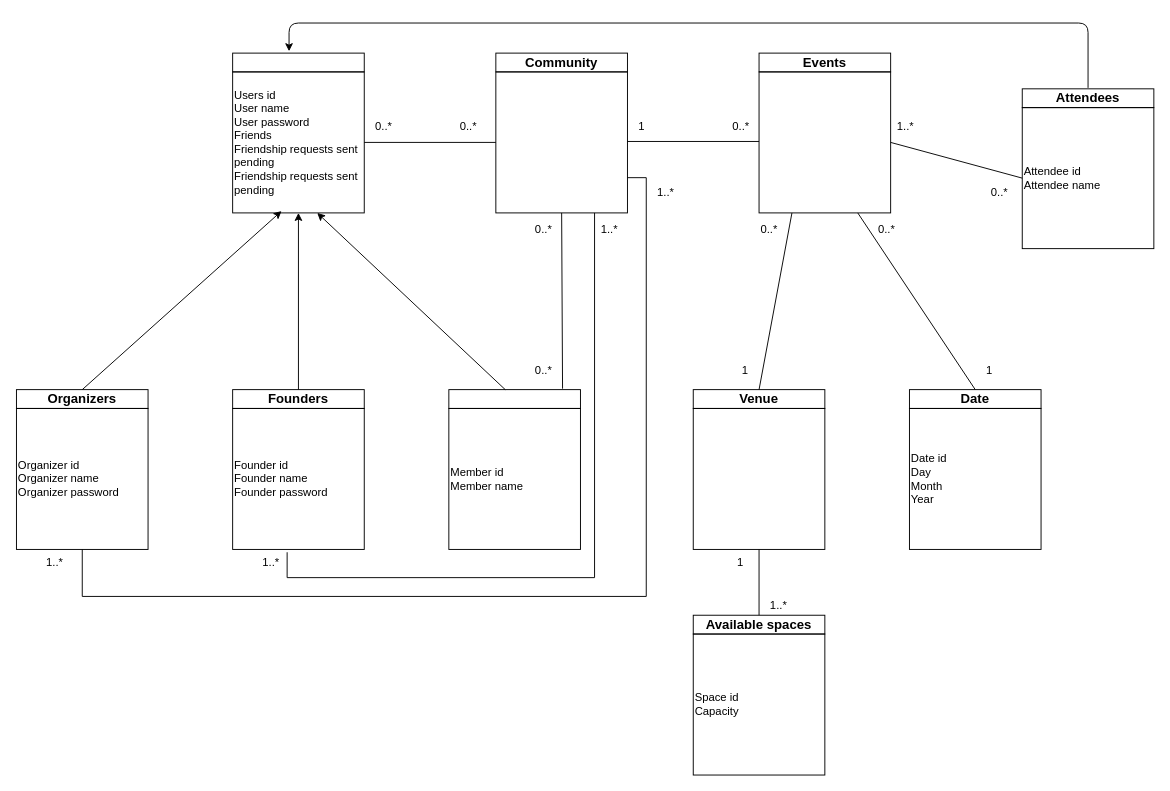
The diagram is 1170 pixels wide and 791 high, and some of its shapes have lost their labels. The shapes that lost their labels are listed below. From the top down, each one's centre as x and y in pixels, then its label:
[298,62]: Users
[561,142]: Community id Founders Organizers Members Events
[824,142]: Event id Venue Date Name Description Attendees
[514,398]: Members
[758,478]: Venue id Address Available spaces
